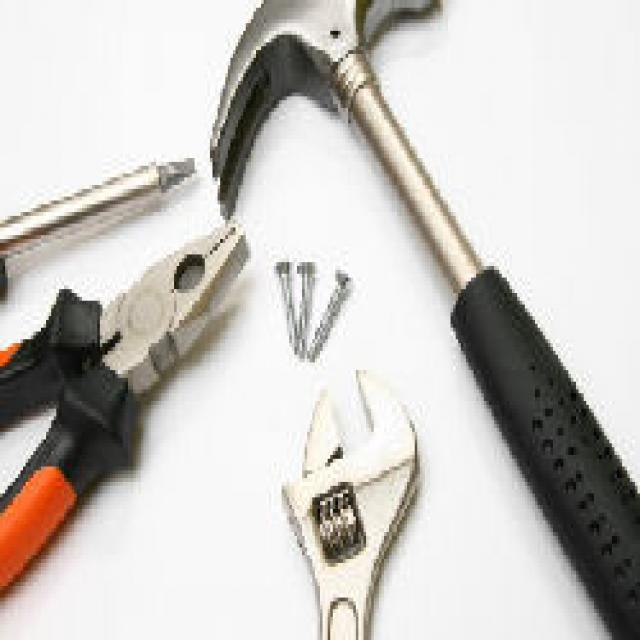hammer: (202, 0, 640, 640)
pliers: (0, 192, 261, 598)
screwdriver: (0, 127, 206, 301)
wrench: (273, 342, 425, 640)
